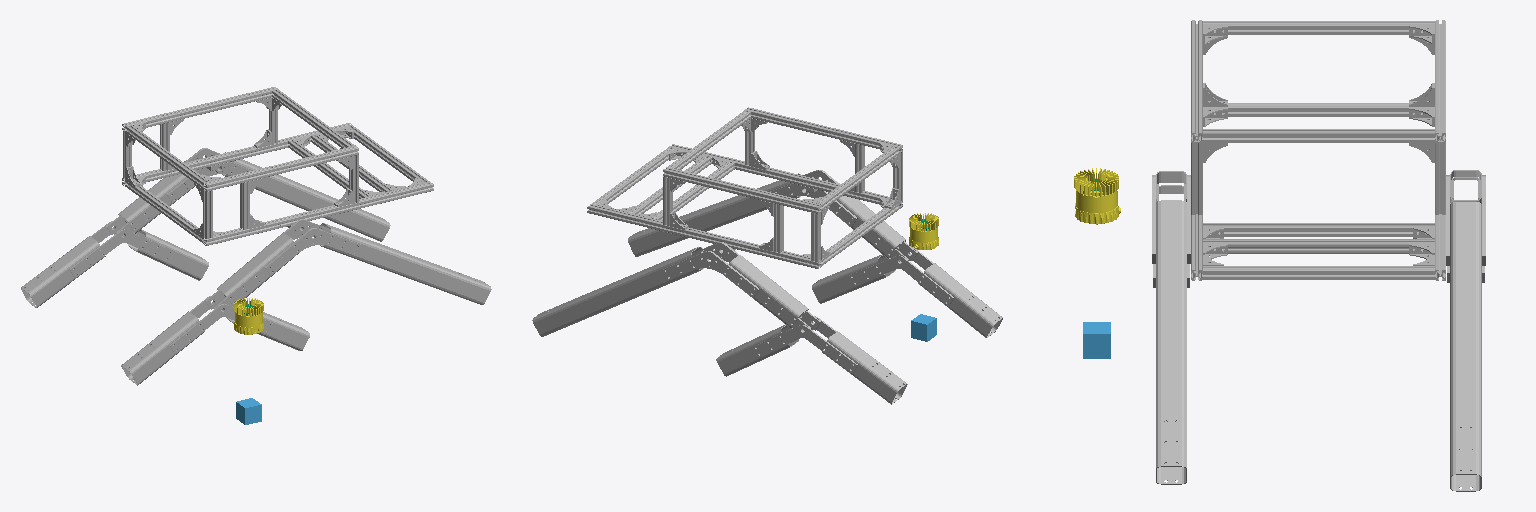
robot.urdf — rover:
<?xml version="1.0" encoding="utf-8"?>
<!-- <world name = "default">
  <include>
    <uri>package://rover/rover/simulation/models/heightmap</uri>
  </include>
</world> -->
<robot
  name="rover">
  <link
    name="chassis">
    <inertial>
      <origin
        xyz="0.280596630449412 0.391929398096866 0.497299040946044"
        rpy="0 0 0" />
      <mass
        value="1.29640563513338" />
      <inertia
        ixx="0.00672846851367381"
        ixy="1.67488363226178E-11"
        ixz="4.18701658746673E-12"
        iyy="0.0141290723043649"
        iyz="4.23106487277759E-11"
        izz="0.0202362014370819" />
    </inertial>
    <visual>
      <origin
        xyz="0 0 0"
        rpy="0 0 0" />
      <geometry>
        <mesh
          filename="package://rover/rover/simulation/meshes/rover_meshes/chassis.STL" />
      </geometry>
      <material
        name="">
        <color
          rgba="0.752941176470588 0.752941176470588 0.752941176470588 1" />
      </material>
    </visual>
    <collision>
      <origin
        xyz="0 0 0"
        rpy="0 0 0" />
      <geometry>
        <mesh
          filename="package://rover/rover/simulation/meshes/rover_meshes/chassis.STL" />
      </geometry>
    </collision>
  </link>
  <link
    name="right_rocker">
    <inertial>
      <origin
        xyz="-0.0569379504262081 -0.0279401827117303 0.173105600500696"
        rpy="0 0 0" />
      <mass
        value="0.702057959029176" />
      <inertia
        ixx="0.00201938596176855"
        ixy="8.38446274601664E-19"
        ixz="-0.00197087340304265"
        iyy="0.00810448763367223"
        iyz="3.52036066567989E-19"
        izz="0.00646378679421278" />
    </inertial>
    <visual>
      <origin
        xyz="0 0 0"
        rpy="0 0 0" />
      <geometry>
        <mesh
          filename="package://rover/rover/simulation/meshes/rover_meshes/rocker_1.STL" />
      </geometry>
      <material
        name="">
        <color
          rgba="0.752941176470588 0.752941176470588 0.752941176470588 1" />
      </material>
    </visual>
    <collision>
      <origin
        xyz="0 0 0"
        rpy="0 0 0" />
      <geometry>
        <mesh
          filename="package://rover/simulation/meshes/rover_meshes/rocker_1.STL" />
      </geometry>
    </collision>
  </link>
  <joint
    name="chassis_right_rocker_joint"
    type="fixed">
    <origin
      xyz="0.256227202845866 0.104049397997044 0.442431681089809"
      rpy="3.14159265358979 0 0" />
    <parent
      link="chassis" />
    <child
      link="right_rocker" />
    <axis
      xyz="0 1 0" />
  </joint>
  <link
    name="front_right_wheel">
    <inertial>
      <origin
        xyz="-0.000176268265629331 -0.063545275407954 -0.000101180829060271"
        rpy="0 0 0" />
      <mass
        value="3.71098878156725" />
      <inertia
        ixx="0.0272042721492542"
        ixy="4.78292852750308E-05"
        ixz="-4.80095002679056E-05"
        iyy="0.0486688742529404"
        iyz="2.76468584338433E-05"
        izz="0.0272554582911533" />
    </inertial>
    <visual>
      <origin
        xyz="0 0 0"
        rpy="0 0 0" />
      <geometry>
        <mesh
          filename="package://rover/rover/simulation/meshes/rover_meshes/wheel_1.STL" />
      </geometry>
      <material
        name="">
        <color
          rgba="0.752941176470588 0.752941176470588 0.752941176470588 1" />
      </material>
    </visual>
    <collision>
      <origin
        xyz="0 0 0"
        rpy="0 0 0" />
      <geometry>
        <mesh
          filename="package://rover/rover/simulation/meshes/rover_meshes/wheel_1.STL" />
      </geometry>
    </collision>
  </link>
  <joint
    name="front_right_wheel_joint"
    type="continuous">
    <origin
      xyz="0.566011190291999 0.1316352 0.343614113670245"
      rpy="0 0 0" />
    <parent
      link="right_rocker" />
    <child
      link="front_right_wheel" />
    <axis
      xyz="0 1 0" />
  </joint>
  <link
    name="rear_right_wheel">
    <inertial>
      <origin
        xyz="0.000178620256626905 -0.0635452759401471 -9.69747179342118E-05"
        rpy="0 0 0" />
      <mass
        value="3.71098882585926" />
      <inertia
        ixx="0.0271986135719232"
        ixy="-4.86694249211029E-05"
        ixz="4.4432824626282E-05"
        iyy="0.048668870619602"
        iyz="2.62407892171943E-05"
        izz="0.0272611104614586" />
    </inertial>
    <visual>
      <origin
        xyz="0 0 0"
        rpy="0 0 0" />
      <geometry>
        <mesh
          filename="package://rover/rover/simulation/meshes/rover_meshes/wheel_2.STL" />
      </geometry>
      <material
        name="">
        <color
          rgba="0.752941176470588 0.752941176470588 0.752941176470588 1" />
      </material>
    </visual>
    <collision>
      <origin
        xyz="0 0 0"
        rpy="0 0 0" />
      <geometry>
        <mesh
          filename="package://rover/rover/simulation/meshes/rover_meshes/wheel_2.STL" />
      </geometry>
    </collision>
  </link>
  <joint
    name="rear_right_wheel_joint"
    type="continuous">
    <origin
      xyz="-0.569418798760428 0.1316347 0.337858198560885"
      rpy="0 0 0" />
    <parent
      link="right_rocker" />
    <child
      link="rear_right_wheel" />
    <axis
      xyz="0 1 0" />
  </joint>
  <link
    name="middle_right_wheel">
    <inertial>
      <origin
        xyz="0.00194962016118483 -0.0675452750876231 0.00121412273220574"
        rpy="0 0 0" />
      <mass
        value="3.71098876791251" />
      <inertia
        ixx="0.0272070703663635"
        ixy="4.70156922027863E-05"
        ixz="-4.9399498887416E-05"
        iyy="0.0486688742503798"
        iyz="2.90088130261499E-05"
        izz="0.0272526600966611" />
    </inertial>
    <visual>
      <origin
        xyz="0 0 0"
        rpy="0 0 0" />
      <geometry>
        <mesh
          filename="package://rover/rover/simulation/meshes/rover_meshes/wheel_3.STL" />
      </geometry>
      <material
        name="">
        <color
          rgba="0.752941176470588 0.752941176470588 0.752941176470588 1" />
      </material>
    </visual>
    <collision>
      <origin
        xyz="0 0 0"
        rpy="0 0 0" />
      <geometry>
        <mesh
          filename="package://rover/rover/simulation/meshes/rover_meshes/wheel_3.STL" />
      </geometry>
    </collision>
  </link>
  <joint
    name="middle_right_wheel_joint"
    type="continuous">
    <origin
      xyz="0.00389311933816788 0.135634699999995 0.348264389277544"
      rpy="0 0 0" />
    <parent
      link="right_rocker" />
    <child
      link="middle_right_wheel" />
    <axis
      xyz="0 1 0" />
  </joint>
  <link
    name="left_rocker">
    <inertial>
      <origin
        xyz="-0.0634016522720201 0.0349398172882701 0.170844109095454"
        rpy="0 0 0" />
      <mass
        value="0.702057959029149" />
      <inertia
        ixx="0.00217365418533618"
        ixy="6.73373283262978E-19"
        ixz="-0.00213217567457792"
        iyy="0.00810448763367225"
        iyz="9.78126874401938E-19"
        izz="0.00630951857064517" />
    </inertial>
    <visual>
      <origin
        xyz="0 0 0"
        rpy="0 0 0" />
      <geometry>
        <mesh
          filename="package://rover/rover/simulation/meshes/rover_meshes/rocker_2.STL" />
      </geometry>
      <material
        name="">
        <color
          rgba="0.752941176470588 0.752941176470588 0.752941176470588 1" />
      </material>
    </visual>
    <collision>
      <origin
        xyz="0 0 0"
        rpy="0 0 0" />
      <geometry>
        <mesh
          filename="package://rover/rover/simulation/meshes/rover_meshes/rocker_2.STL" />
      </geometry>
    </collision>
  </link>
  <joint
    name="chassis_left_rocker_joint"
    type="fixed">
    <origin
      xyz="0.257280649253525 0.686809397997044 0.442407585082231"
      rpy="3.14159265358979 0 0" />
    <parent
      link="chassis" />
    <child
      link="left_rocker" />
    <axis
      xyz="0 1 0" />
  </joint>
  <link
    name="front_left_wheel">
    <inertial>
      <origin
        xyz="0.00194021425049595 0.0675452760210624 0.0012290934521642"
        rpy="0 0 0" />
      <mass
        value="3.71098880202612" />
      <inertia
        ixx="0.0272054221797023"
        ixy="-4.6545735350503E-05"
        ixz="-4.86053275352078E-05"
        iyy="0.0486688742211578"
        iyz="-2.97572117749254E-05"
        izz="0.0272543080141054" />
    </inertial>
    <visual>
      <origin
        xyz="0 0 0"
        rpy="0 0 0" />
      <geometry>
        <mesh
          filename="package://rover/rover/simulation/meshes/rover_meshes/wheel_4.STL" />
      </geometry>
      <material
        name="">
        <color
          rgba="0.752941176470588 0.752941176470588 0.752941176470588 1" />
      </material>
    </visual>
    <collision>
      <origin
        xyz="0 0 0"
        rpy="0 0 0" />
      <geometry>
        <mesh
          filename="package://rover/rover/simulation/meshes/rover_meshes/wheel_4.STL" />
      </geometry>
    </collision>
  </link>

  <joint
    name="front_left_wheel_joint"
    type="continuous">
    <origin
      xyz="0.550522165589643 -0.128635200000009 0.363405762447953"
      rpy="0 0 0" />
    <parent
      link="left_rocker" />
    <child
      link="front_left_wheel" />
    <axis
      xyz="0 1 0" />
  </joint>
  <link
    name="middle_left_wheel">
    <inertial>
      <origin
        xyz="0.00190412164591511 0.0675452763004372 0.00128429872637638"
        rpy="0 0 0" />
      <mass
        value="3.7109887931054" />
      <inertia
        ixx="0.0272082525262715"
        ixy="-4.56720854196087E-05"
        ixz="-4.99283758016243E-05"
        iyy="0.0486688742002614"
        iyz="-3.10813718997883E-05"
        izz="0.0272514775785934" />
    </inertial>
    <visual>
      <origin
        xyz="0 0 0"
        rpy="0 0 0" />
      <geometry>
        <mesh
          filename="package://rover/rover/simulation/meshes/rover_meshes/wheel_5.STL" />
      </geometry>
      <material
        name="">
        <color
          rgba="0.752941176470588 0.752941176470588 0.752941176470588 1" />
      </material>
    </visual>
    <collision>
      <origin
        xyz="0 0 0"
        rpy="0 0 0" />
      <geometry>
        <mesh
          filename="package://rover/rover/simulation/meshes/rover_meshes/wheel_5.STL" />
      </geometry>
    </collision>
  </link>
  <joint
    name="middle_left_wheel_joint"
    type="continuous">
    <origin
      xyz="-0.00926565490461811 -0.128635699999999 0.348270005795649"
      rpy="0 0 0" />
    <parent
      link="left_rocker" />
    <child
      link="middle_left_wheel" />
    <axis
      xyz="0 1 0" />
  </joint>
  <link
    name="rear_left_wheel">
    <inertial>
      <origin
        xyz="0.000183308022644324 0.063545275877115 -8.77894032265403E-05"
        rpy="0 0 0" />
      <mass
        value="3.71098880708039" />
      <inertia
        ixx="0.0271974322176279"
        ixy="4.97534168410985E-05"
        ixz="4.36810350456356E-05"
        iyy="0.0486688742475462"
        iyz="-2.40124238018518E-05"
        izz="0.027262298065" />
    </inertial>
    <visual>
      <origin
        xyz="0 0 0"
        rpy="0 0 0" />
      <geometry>
        <mesh
          filename="package://rover/rover/simulation/meshes/rover_meshes/wheel_6.STL" />
      </geometry>
      <material
        name="">
        <color
          rgba="0.752941176470588 0.752941176470588 0.752941176470588 1" />
      </material>
    </visual>
    <collision>
      <origin
        xyz="0 0 0"
        rpy="0 0 0" />
      <geometry>
        <mesh
          filename="package://rover/rover/simulation/meshes/rover_meshes/wheel_6.STL" />
      </geometry>
    </collision>
  </link>
  <joint
    name="rear_left_wheel_joint"
    type="continuous">
    <origin
      xyz="-0.585325281230279 -0.124635699999999 0.308803919717537"
      rpy="0 0 0" />
    <parent
      link="left_rocker" />
    <child
      link="rear_left_wheel" />
    <axis
      xyz="0 1 0" />
  </joint>

  <link name="imu_link">
    <collision>
      <origin xyz="0 0 0" rpy="0 0 0"/>
      <geometry>
    <box size="0.05 0.05 0.05"/>
      </geometry>
    </collision>

    <visual>
      <origin xyz="0 0 0" rpy="0 0 0"/>
      <geometry>
    <box size="0.05 0.05 0.05"/>
      </geometry>
      <material name="red"/>
    </visual>

    <inertial>
      <mass value="1e-5" />
      <origin xyz="0 0 0" rpy="0 0 0"/>
      <inertia ixx="1e-6" ixy="0" ixz="0" iyy="1e-6" iyz="0" izz="1e-6" />
    </inertial>
  </link>


  <joint name="imu_joint" type="fixed">
    <origin
      xyz="0.0 0 0.0"
      rpy="1.5707963267949 0 0" />
    <parent
      link="chassis" />
    <child
      link="imu_link" />
    <axis
      xyz="0 0 0" />
  </joint>

  <link name="gps_link">
    <collision>
      <origin xyz="0 0 0" rpy="0 0 0"/>
      <geometry>
    <box size="0.05 0.05 0.05"/>
      </geometry>
    </collision>

    <visual>
      <origin xyz="0 0 0" rpy="0 0 0"/>
      <geometry>
    <box size="0.05 0.05 0.05"/>
      </geometry>
      <material name="red"/>
    </visual>

    <inertial>
      <mass value="1e-5" />
      <origin xyz="0 0 0" rpy="0 0 0"/>
      <inertia ixx="1e-6" ixy="0" ixz="0" iyy="1e-6" iyz="0" izz="1e-6" />
    </inertial>
  </link>

  <joint name="gps_joint" type="fixed">
    <origin
      xyz="0.0 0 0.278189004081027"
      rpy="0 0 0" />
    <parent
      link="chassis" />
    <child
      link="gps_link" />
    <axis
      xyz="0 0 0" />
  </joint>

  <link name="lidar_link">
    <inertial>
      <mass value="0.425"/>
      <origin xyz="0 0 0.03675" rpy="0 0 0" />
      <inertia ixx="0.000308429" ixy="0" ixz="0"
                iyy="0.000308429" iyz="0" izz="0.00034589"/>
    </inertial>
    <collision>
      <origin xyz="0 0 0.03675" rpy="0 0 0" />
      <geometry>
        <mesh filename="package://rover/rover/simulation/meshes/rover_meshes/os1_64.stl" />
      </geometry>
    </collision>
    <visual>
      <origin xyz="0 0 0" rpy="0 0 0"/>
      <geometry>
        <mesh filename="package://rover/rover/simulation/meshes/rover_meshes/os1_64.stl" />
      </geometry>
    </visual>
  </link>

  <joint name="lidar_joint" type="fixed">
      <parent link="chassis"/>
      <child link="lidar_link"/>
      <axis
      xyz="0 0 0" />
      <origin
      xyz="0.0 0 0.278189004081027"
      rpy="0 0 0" />
  </joint> 

  <gazebo>
    <plugin name="gazebo_ros_control" filename="libgazebo_ros_control.so">
      <robotNamespace>/</robotNamespace>
      <controlPeriod>0.001</controlPeriod>
      <legacyModeNS>false</legacyModeNS>
    </plugin>
  </gazebo>
  <gazebo>
      <plugin name="diff_drive_controller" filename="libgazebo_ros_diff_drive.so">
        <legacyMode>false</legacyMode>
        <alwaysOn>true</alwaysOn>
        <updateRate>1000.0</updateRate>
        <leftJoint>front_left_wheel_joint, middle_left_wheel_joint, rear_left_wheel_joint</leftJoint>
        <rightJoint>front_right_wheel_joint, middle_right_wheel_joint, rear_right_wheel_joint</rightJoint>
        <wheelSeparation>0.5</wheelSeparation>
        <wheelDiameter>0.2</wheelDiameter>
        <wheelTorque>10</wheelTorque>
        <publishTf>1</publishTf>
        <odometryFrame>map</odometryFrame>
        <commandTopic>cmd_vel</commandTopic> 
        <odometryTopic>odom</odometryTopic>
        <robotBaseFrame>chassis</robotBaseFrame>
        <wheelAcceleration>2.8</wheelAcceleration>
        <publishWheelJointState>true</publishWheelJointState>
        <publishWheelTF>false</publishWheelTF>
        <odometrySource>world</odometrySource>
        <rosDebugLevel>Debug</rosDebugLevel>
      </plugin>
  </gazebo>
  <gazebo reference="front_left_wheel">
    <mu1 value="1.0"/>
    <mu2 value="1.0"/>
    <kp value="10000000.0" />
    <kd value="1.0" />
    <fdir1 value="1 0 0"/>
  </gazebo>

  <gazebo reference="front_right_wheel">
  <mu1 value="1.0"/>
  <mu2 value="1.0"/>
  <kp value="10000000.0" />
  <kd value="1.0" />
  <fdir1 value="1 0 0"/>
  </gazebo>

  <gazebo reference="rear_left_wheel">
    <mu1 value="1.0"/>
    <mu2 value="1.0"/>
    <kp value="10000000.0" />
    <kd value="1.0" />
    <fdir1 value="1 0 0"/>
  </gazebo>

  <gazebo reference="rear_left_wheel">
    <mu1 value="1.0"/>
    <mu2 value="1.0"/>
    <kp value="10000000.0" />
    <kd value="1.0" />
    <fdir1 value="1 0 0"/>
  </gazebo>
  <!--######################################################################-->

  <gazebo>
    <plugin filename="libhector_gazebo_ros_imu.so"
              name="hector_imu_plugin" >
      <alwaysOn>true</alwaysOn>
      <bodyName>imu_link</bodyName>
      <topicName>imu</topicName>
      <serviceName>/imu/calibrate</serviceName>
      <gaussianNoise>0.0</gaussianNoise>
      <updateRate>50.0</updateRate>
      <frameName>imu_link</frameName>
      <accelOffset>0 0 0 </accelOffset>
      <accelGaussianNoise>0 0 0</accelGaussianNoise>
      <accelDrift>0 0 0 </accelDrift>
      <accelDriftFrequency>0 0 0</accelDriftFrequency>
      <rateOffset>0 0 0</rateOffset>
      <rateGaussianNoise> 0 0 0</rateGaussianNoise>
      <rateDrift>0 0 0 </rateDrift>
      <rateDriftFrequency> 0 0 0</rateDriftFrequency>
      <yawOffset> 0 </yawOffset>
      <yawGaussianNoise> 0 </yawGaussianNoise>
      <yawDrift> 0 </yawDrift>
      <yawDriftFrequency> 0 </yawDriftFrequency> 
    </plugin>
  </gazebo>

<!--######################################################################-->
  <gazebo>
    <plugin name="gps_controller" filename="libhector_gazebo_ros_gps.so">
        <robotNamespace>/</robotNamespace>
        <updateRate>40</updateRate>
        <bodyName>chassis</bodyName>
        <frameId>chassis</frameId>
        <topicName>navsat/fix</topicName>
        <velocityTopicName>navsat/vel</velocityTopicName>
        <referenceLatitude>50.0</referenceLatitude>
        <referenceLongitude>60.0</referenceLongitude>
        <referenceHeading>0</referenceHeading>
        <referenceAltitude>0</referenceAltitude>
        <drift>0.0001 0.0001 0.0001</drift>
    </plugin>
  </gazebo>
<!--######################################################################-->

<gazebo reference="lidar_link">
    <sensor type="gpu_ray" name="os1_lidar">
      <pose>0 0 0 0 0 0</pose>
          <visualize>true</visualize>
          <update_rate>10</update_rate>
          <ray>
            <scan>
              <horizontal>
                <samples>512</samples>
                <resolution>1</resolution>
                <min_angle>-3.141529</min_angle>
                <max_angle>3.141529</max_angle>
              </horizontal>
              <vertical>
                <samples>64</samples>
                <resolution>1</resolution>
                <min_angle>-3.141529</min_angle>
                <max_angle>-3.141529</max_angle>
              </vertical>
            </scan>
            <range>
              <min>0.9</min>
              <max>75.0</max>
              <resolution>0.03</resolution>
            </range>
          </ray>
      <plugin name="gazebo_ros_head_hokuyo_controller" filename="libgazebo_ros_gpu_laser.so">
        <topicName>/rrbot/laser/scan</topicName>
        <frameName>hokuyo_link</frameName>
      </plugin>
    </sensor>
</gazebo>

<!--######################################################################-->

  <transmission name="front_left_wheel_trans" type="SimpleTransmission">
    <type>transmission_interface/SimpleTransmission</type>
    <actuator name="front_left_wheel_motor">
    <hardwareInterface>hardware_interface/VelocityJointInterface</hardwareInterface>
    <mechanicalReduction>1</mechanicalReduction>
    </actuator>
    <joint name="front_left_wheel_joint">
    <hardwareInterface>hardware_interface/VelocityJointInterface</hardwareInterface>
    </joint>
  </transmission>

  <transmission name="middle_left_wheel_trans" type="SimpleTransmission">
    <type>transmission_interface/SimpleTransmission</type>
    <actuator name="middle_left_wheel_motor">
    <hardwareInterface>hardware_interface/VelocityJointInterface</hardwareInterface>
    <mechanicalReduction>1</mechanicalReduction>
    </actuator>
    <joint name="middle_left_wheel_joint">
    <hardwareInterface>hardware_interface/VelocityJointInterface</hardwareInterface>
    </joint>
  </transmission>

  <transmission name="middle_right_wheel_trans" type="SimpleTransmission">
    <type>transmission_interface/SimpleTransmission</type>
    <actuator name="middle_right_wheel_motor">
    <hardwareInterface>hardware_interface/VelocityJointInterface</hardwareInterface>
    <mechanicalReduction>1</mechanicalReduction>
    </actuator>
    <joint name="middle_right_wheel_joint">
    <hardwareInterface>hardware_interface/VelocityJointInterface</hardwareInterface>
    </joint>
  </transmission>

  <transmission name="front_right_wheel_trans" type="SimpleTransmission">
    <type>transmission_interface/SimpleTransmission</type>
    <actuator name="front_right_wheel_motor">
    <hardwareInterface>hardware_interface/VelocityJointInterface</hardwareInterface>
    <mechanicalReduction>1</mechanicalReduction>
    </actuator>
    <joint name="front_right_wheel_joint">
    <hardwareInterface>hardware_interface/VelocityJointInterface</hardwareInterface>
    </joint>
  </transmission>

  <transmission name="rear_left_wheel_trans" type="SimpleTransmission">
    <type>transmission_interface/SimpleTransmission</type>
    <actuator name="rear_left_wheel_motor">
    <hardwareInterface>hardware_interface/VelocityJointInterface</hardwareInterface>
    <mechanicalReduction>1</mechanicalReduction>
    </actuator>
    <joint name="rear_left_wheel_joint">
    <hardwareInterface>hardware_interface/VelocityJointInterface</hardwareInterface>
    </joint>
  </transmission>

  <transmission name="rear_right_wheel_trans" type="SimpleTransmission">
    <type>transmission_interface/SimpleTransmission</type>
    <actuator name="rear_right_wheel_motor">
    <hardwareInterface>hardware_interface/VelocityJointInterface</hardwareInterface>
    <mechanicalReduction>1</mechanicalReduction>
    </actuator>
    <joint name="rear_right_wheel_joint">
      <hardwareInterface>hardware_interface/VelocityJointInterface</hardwareInterface>
    </joint>
  </transmission>
</robot>

--- Facts derived from the render (not from the file) ---
Views: 3 orthographic renders of the robot side by side, from view 1: azimuth 30°, elevation 25°; view 2: azimuth 150°, elevation 25°; view 3: azimuth 270°, elevation 25°.
Robot: rover — 12 links, 11 joints (6 continuous, 5 fixed); root link chassis; default pose: every joint at zero.
Visible links, largest first — view 1: chassis, right_rocker, left_rocker, lidar_link, imu_link; view 2: chassis, left_rocker, right_rocker, lidar_link, imu_link; view 3: chassis, left_rocker, right_rocker, lidar_link, imu_link.
Boxes of the visible links, x1=… form: chassis: x1=122, y1=87, x2=433, y2=245; right_rocker: x1=121, y1=219, x2=491, y2=385; left_rocker: x1=21, y1=148, x2=390, y2=307; lidar_link: x1=234, y1=298, x2=263, y2=334; imu_link: x1=236, y1=398, x2=261, y2=424; chassis: x1=587, y1=107, x2=902, y2=268; left_rocker: x1=532, y1=242, x2=907, y2=404; right_rocker: x1=628, y1=170, x2=1002, y2=337; lidar_link: x1=909, y1=213, x2=938, y2=249; imu_link: x1=911, y1=314, x2=936, y2=341; chassis: x1=1191, y1=20, x2=1445, y2=280; left_rocker: x1=1446, y1=170, x2=1485, y2=491; right_rocker: x1=1152, y1=171, x2=1190, y2=484; lidar_link: x1=1074, y1=168, x2=1120, y2=224; imu_link: x1=1083, y1=322, x2=1110, y2=358.
Size in the robot's own frame: 1.13 by 0.7266 by 0.6321 metres.
4 mesh visuals loaded from 10 distinct referenced files (4 binary STL); not drawn: 6 (reference not matched to a file when rendering).